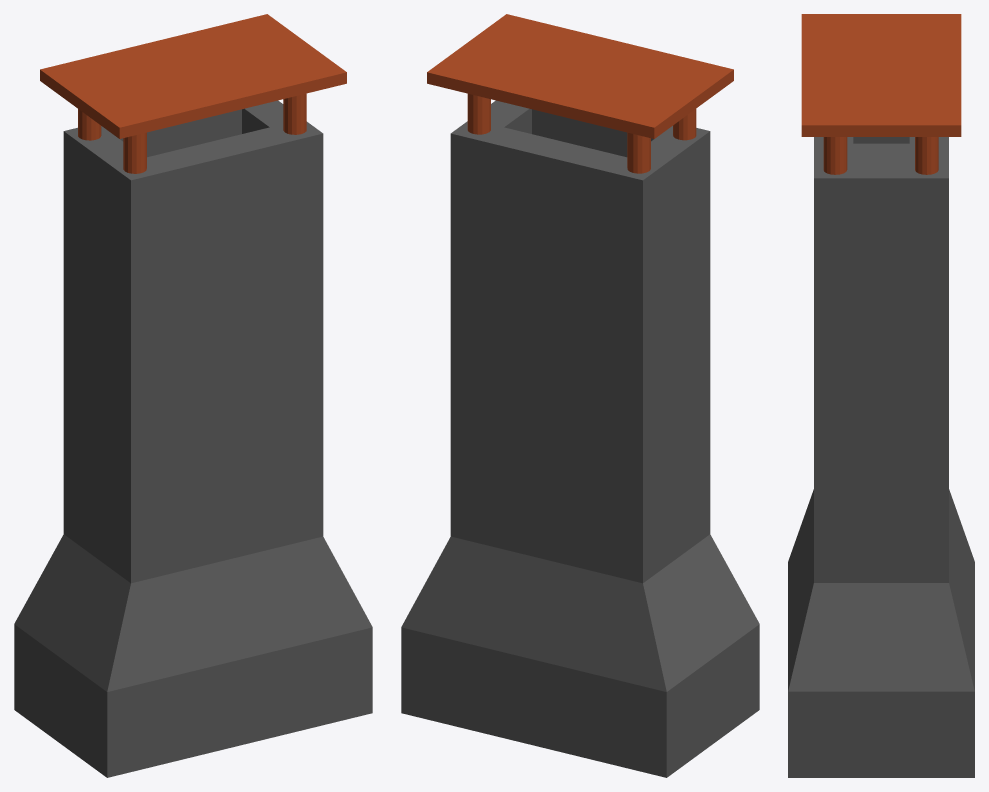
The model's file is beaver-house-fireplace_structure.glb.
3 views of the same model, side by side, from view 1: azimuth 30°, elevation 25°; view 2: azimuth 150°, elevation 25°; view 3: azimuth 270°, elevation 25° (orthographic).
Visible parts, largest first — view 1: fireplace; view 2: fireplace; view 3: fireplace.
Boxes of the visible parts, x1,y1,x2,y2 form: fireplace: (14, 14, 372, 777); fireplace: (401, 14, 759, 777); fireplace: (788, 14, 974, 777).
Bounding box in the file's own units: 0.3056 × 0.7045 × 0.1854.
